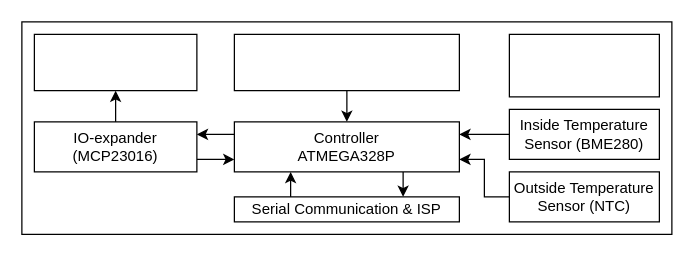
Some shapes in this 694 by 256 pixel diagram are drawn without their labels. Each missing label, with the centre of its shape:
"Buttons (Up, Down, Left, Right, Enter)" goes at pixel 346 62.
"LCD 16 x 2 (LCM1602C)" goes at pixel 115 62.
"Power Supply (Voltage Regulator)" goes at pixel 583 65.
